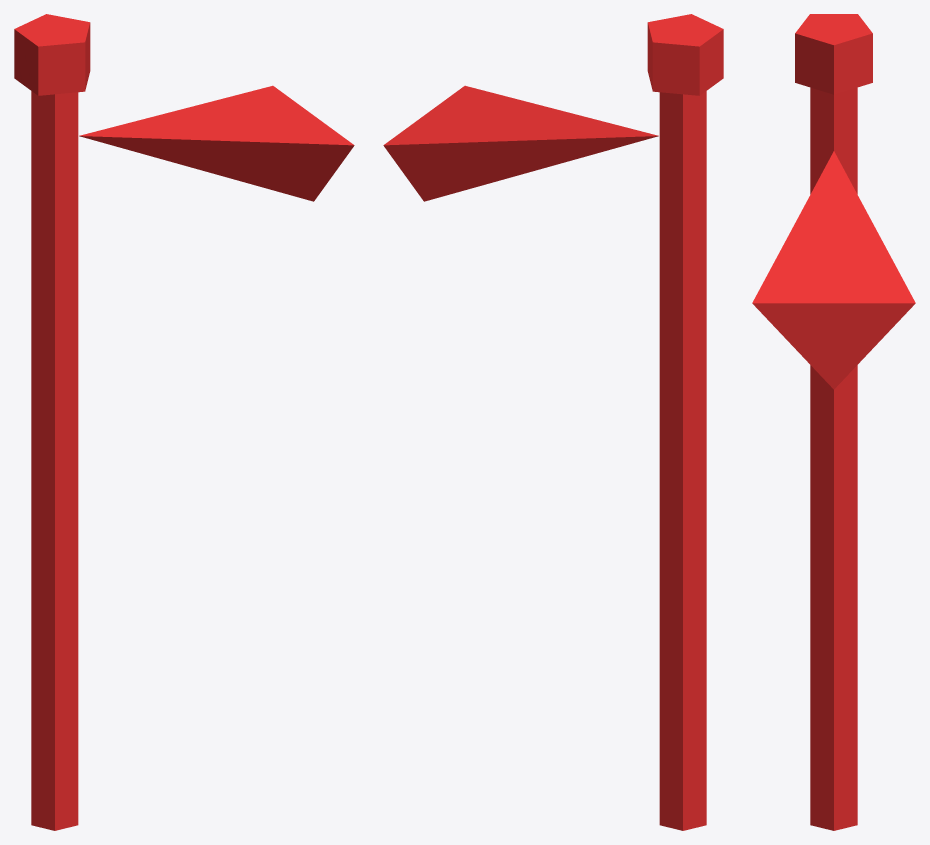
File: flag.obj
3 views of the same model, side by side, from view 1: azimuth 30°, elevation 25°; view 2: azimuth 150°, elevation 25°; view 3: azimuth 270°, elevation 25° (orthographic).
Bounding box in the file's own units: 0.2443 × 0.64 × 0.12.
